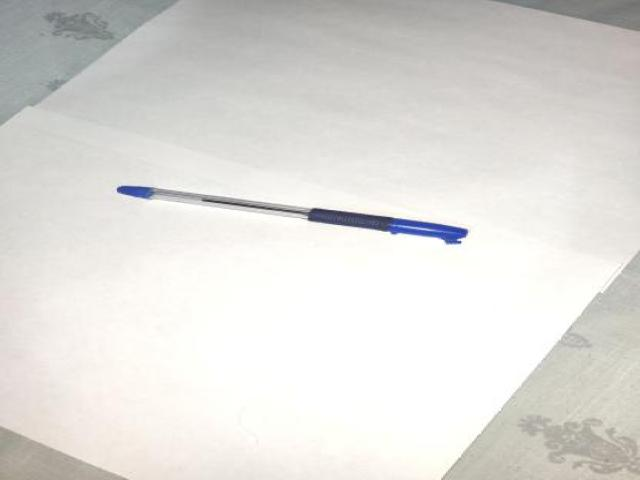PEN: (110, 177, 475, 250)
